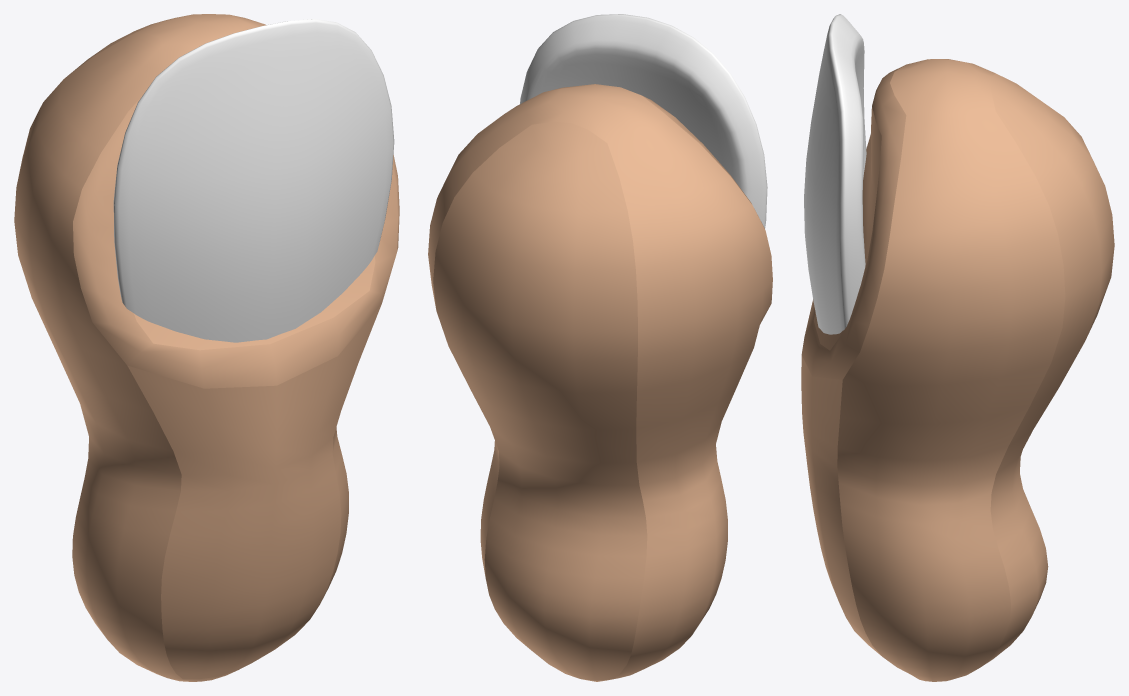
The model's file is 3DRunFinger.fbx.
The picture shows the model from 3 angles, left to right: view 1: azimuth 30°, elevation 25°; view 2: azimuth 150°, elevation 25°; view 3: azimuth 270°, elevation 25°; orthographic projection. The views are drawn at different scales.
Visible parts, largest first — view 1: Cylinder.005, Cylinder.006; view 2: Cylinder.005, Cylinder.006; view 3: Cylinder.005, Cylinder.006.
Part boxes in pixels (x1=…): Cylinder.005: x1=14, y1=14, x2=399, y2=681; Cylinder.006: x1=113, y1=19, x2=394, y2=342; Cylinder.005: x1=428, y1=84, x2=772, y2=681; Cylinder.006: x1=520, y1=14, x2=767, y2=228; Cylinder.005: x1=801, y1=59, x2=1114, y2=681; Cylinder.006: x1=804, y1=14, x2=866, y2=334.
Size of the model in its own units: 27.8 by 31.75 by 62.79.
